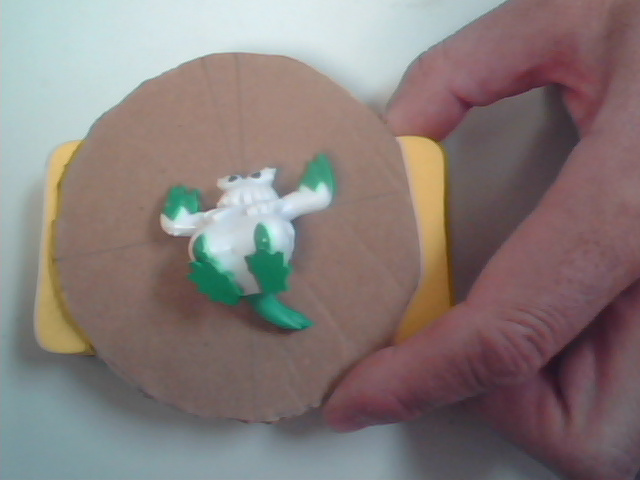abomasnow: (157, 104, 389, 330)
